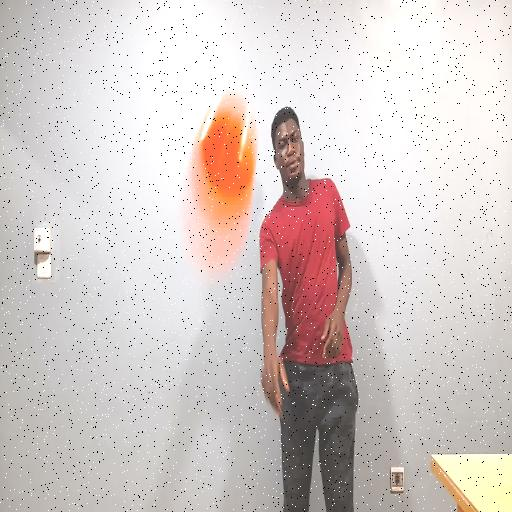plastic-ball: (167, 80, 272, 284)
